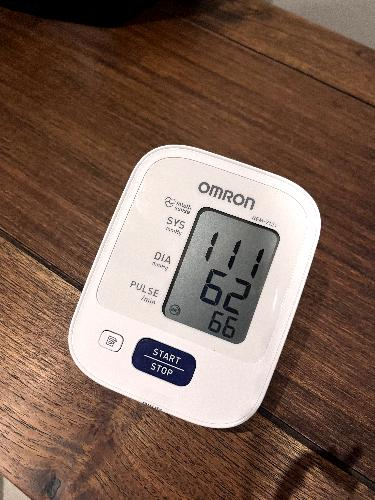bpm: (156, 201, 285, 348)
